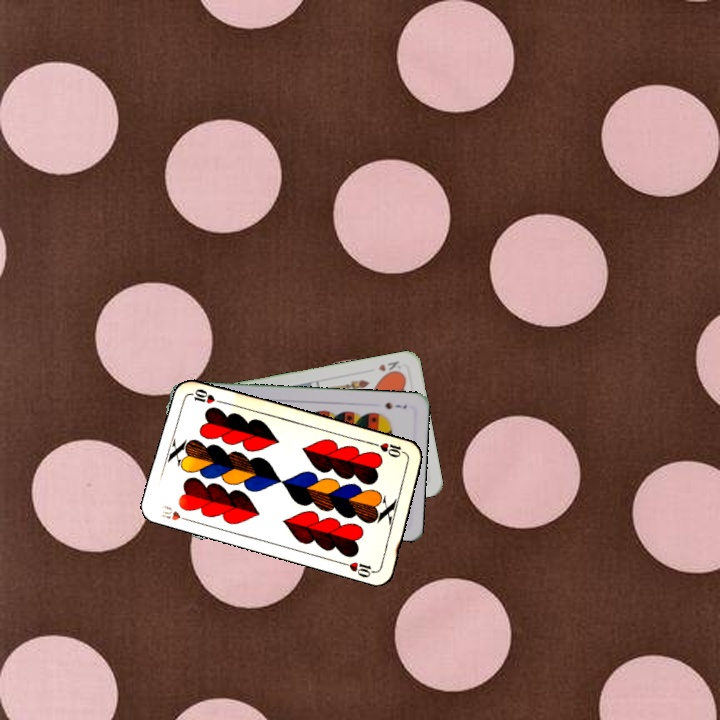H10: (157, 501, 194, 524), (370, 439, 410, 460)
HK: (374, 357, 405, 378)
S7: (381, 398, 409, 412)
